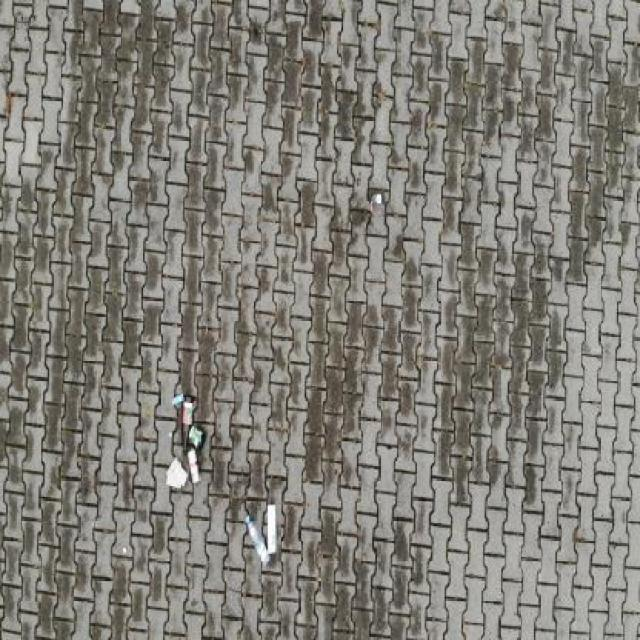Garbage: (245, 515, 270, 569), (165, 456, 188, 491), (181, 394, 193, 455), (188, 426, 207, 449), (267, 505, 276, 553), (188, 448, 199, 483), (369, 195, 381, 217), (172, 392, 184, 404), (122, 547, 126, 556), (169, 432, 173, 439)
